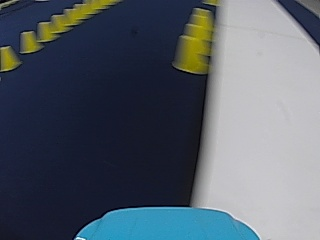cone: (172, 12, 213, 72), (1, 45, 21, 70), (19, 31, 37, 53), (49, 14, 66, 33), (37, 22, 52, 41)
